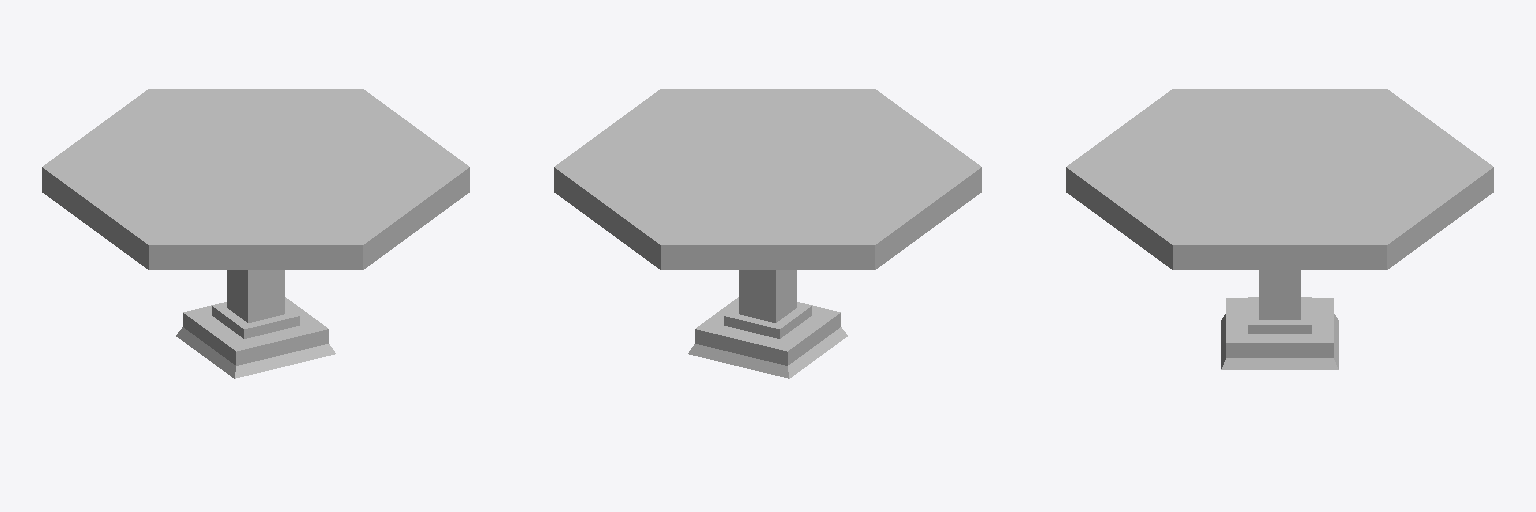
Rendered from tableRound.obj.
3 views of the same model, side by side, from view 1: azimuth 30°, elevation 25°; view 2: azimuth 150°, elevation 25°; view 3: azimuth 270°, elevation 25° (orthographic).
Visible parts, largest first — view 1: tableRound; view 2: tableRound; view 3: tableRound.
Part boxes in pixels (left/top/right/bottom): tableRound: left=42, top=89, right=469, bottom=378; tableRound: left=554, top=89, right=981, bottom=378; tableRound: left=1066, top=89, right=1493, bottom=369.
Bounding box in the file's own units: 6.93 × 3.67 × 8.